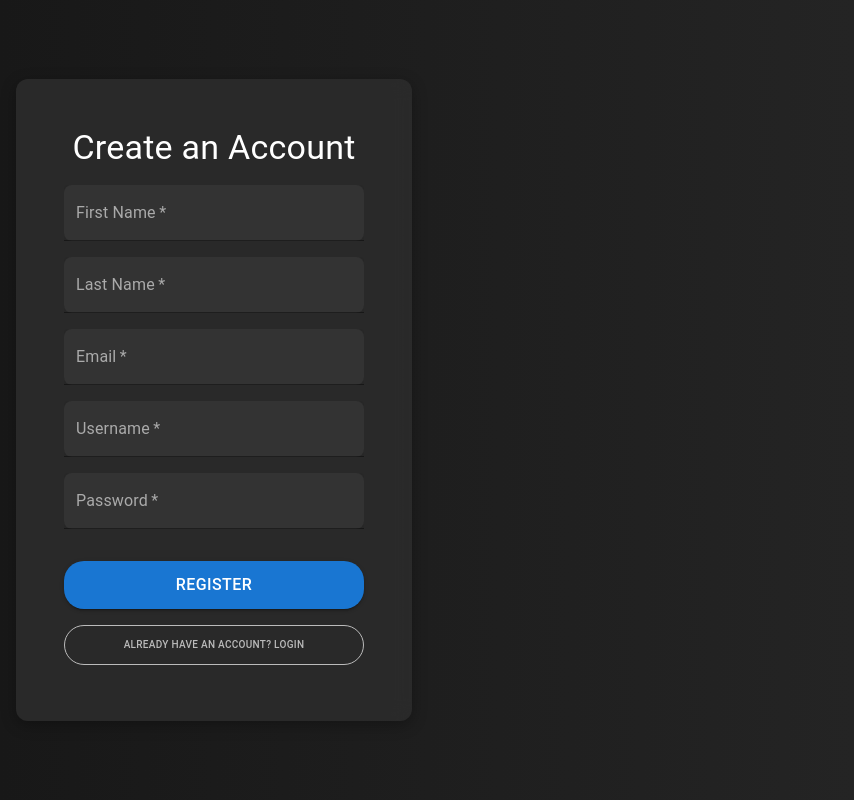
Test case: Register Page › should navigate to login page when clicking login link
Click the button "Already have an account? Login" at (214, 645), box [64,625,364,665]
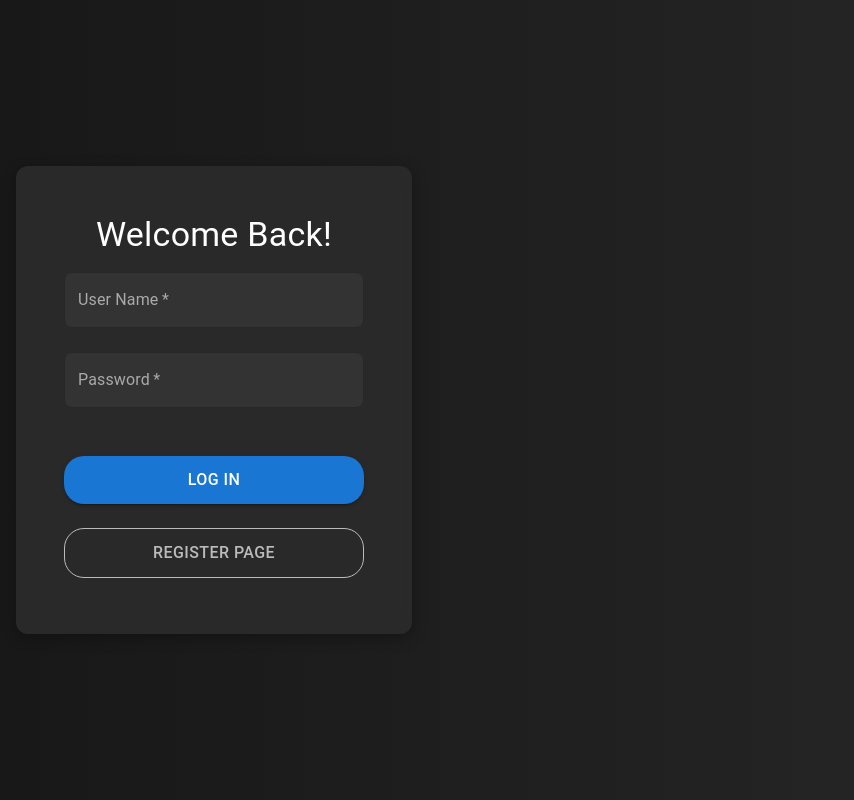
Check: the heading "Welcome Back!" is shown, box [96,214,332,254]
